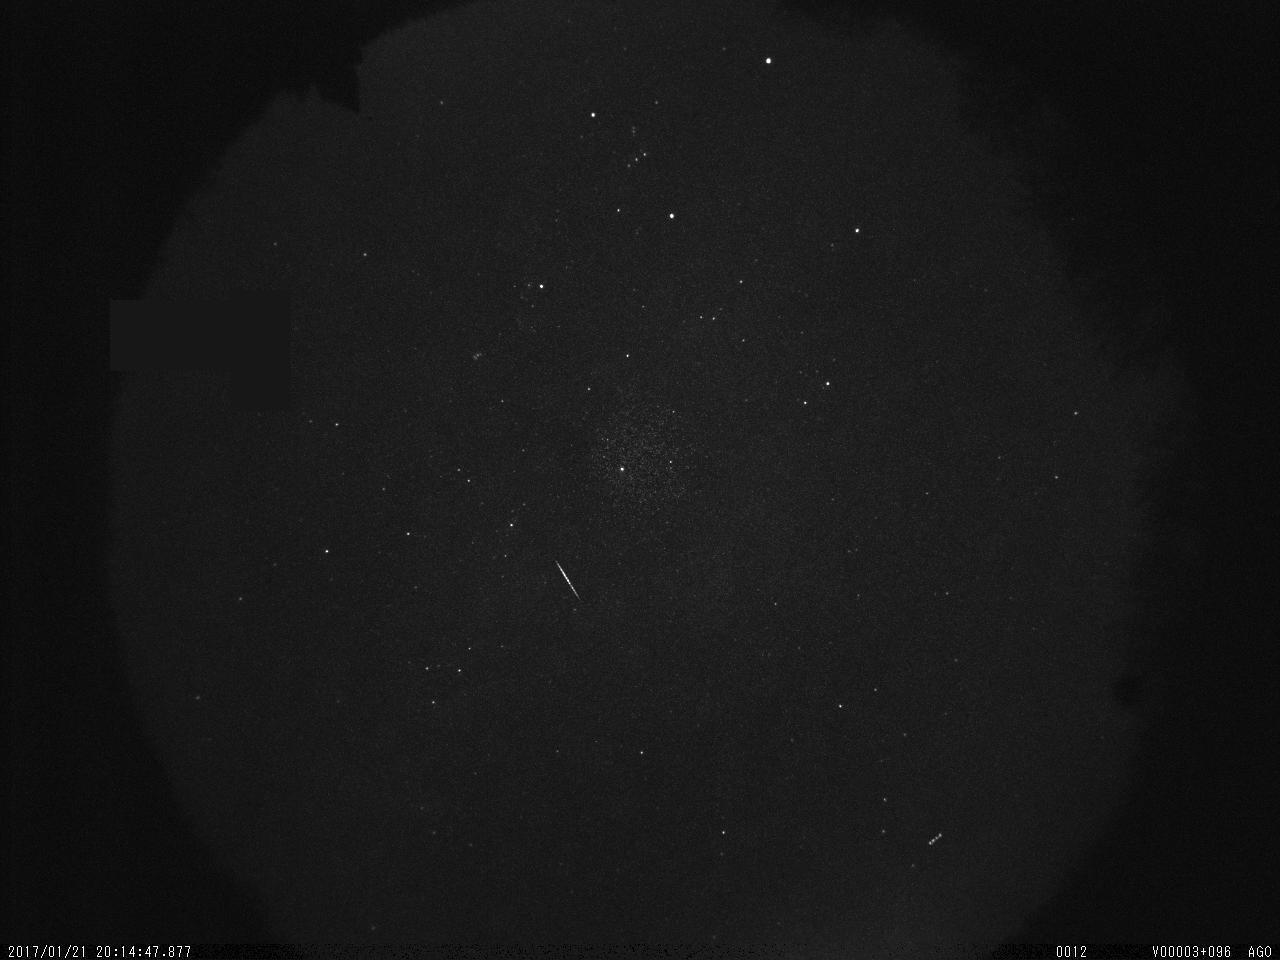Meteor: (555, 558, 582, 602)
